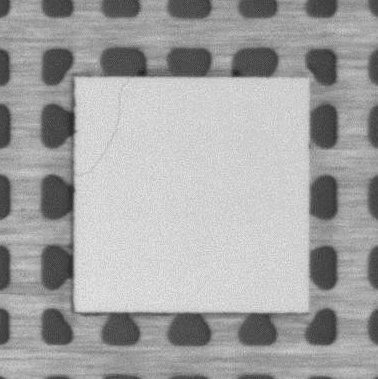DIE_CRACK: (76, 78, 134, 176)
